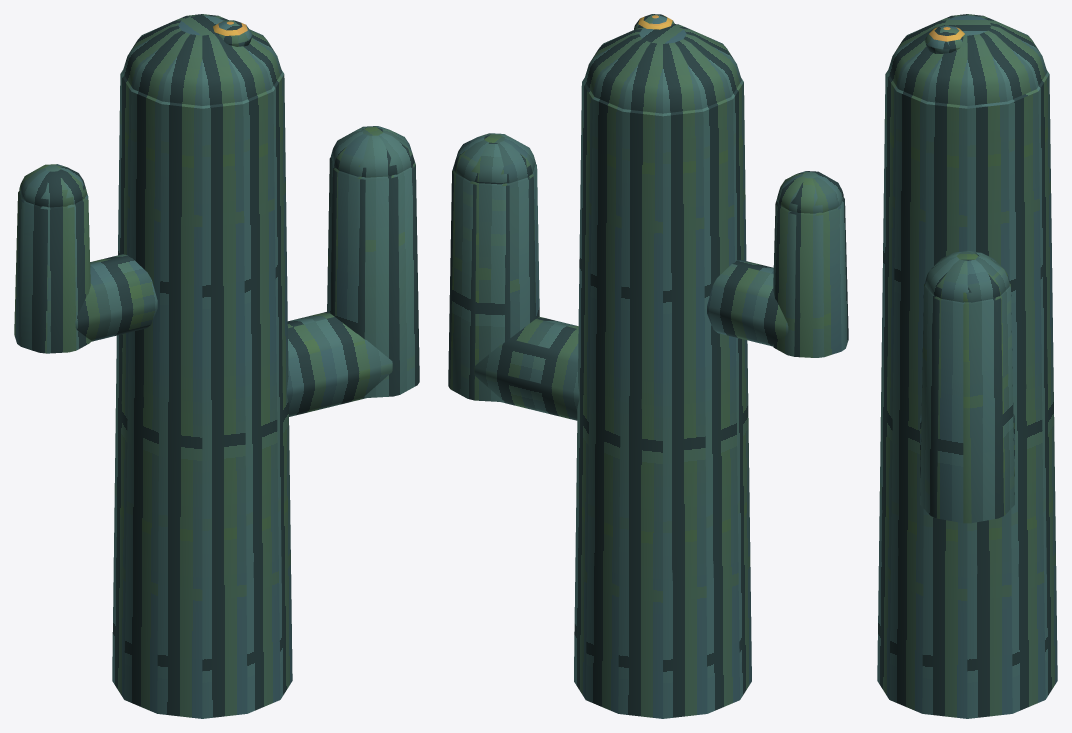
File: spec_cactus_2.glb
3 views of the same model, side by side, from view 1: azimuth 30°, elevation 25°; view 2: azimuth 150°, elevation 25°; view 3: azimuth 270°, elevation 25° (orthographic).
Parts seen in each view (by area): view 1: spec_cactus_2; view 2: spec_cactus_2; view 3: spec_cactus_2.
Boxes of the visible parts, bbox=[...] form: spec_cactus_2: bbox=[14, 14, 419, 718]; spec_cactus_2: bbox=[448, 14, 848, 718]; spec_cactus_2: bbox=[877, 14, 1057, 718].
Bounding box in the file's own units: 1.11 × 1.78 × 0.44.
2 materials, 2 textured.
